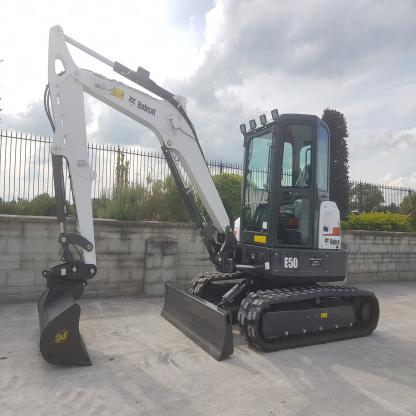excavator: (28, 16, 388, 394)
